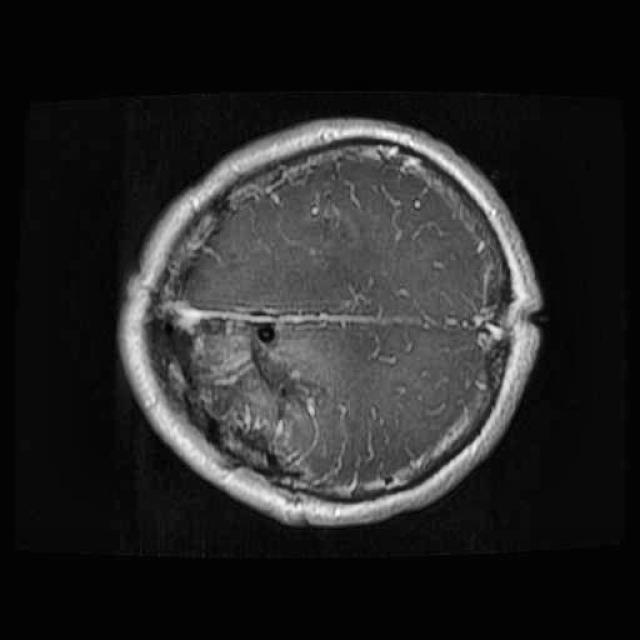Tumor: (170, 307, 336, 471)
